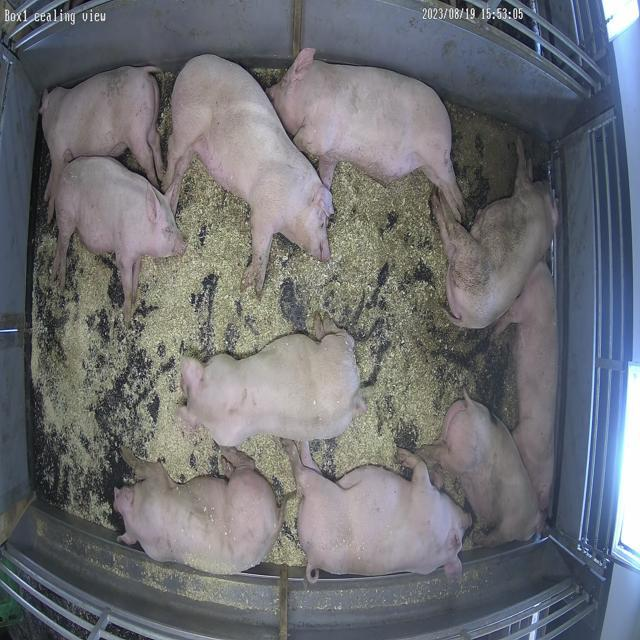Dirt: (436, 306, 518, 428), (450, 104, 531, 226)
Pig: (165, 54, 334, 292), (269, 48, 465, 218), (287, 442, 471, 584), (178, 320, 367, 447), (433, 142, 558, 328), (53, 157, 185, 320), (114, 448, 282, 576), (418, 393, 545, 546), (40, 66, 163, 220), (497, 261, 559, 514)
